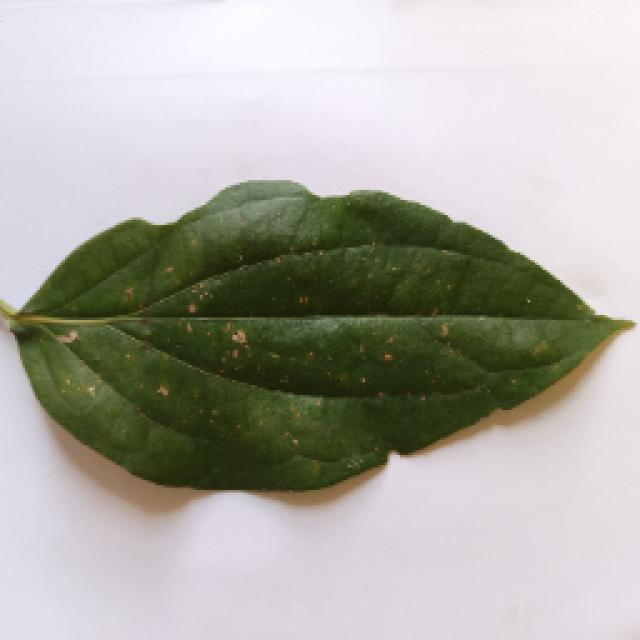pollu-disease: (0, 167, 622, 560)
